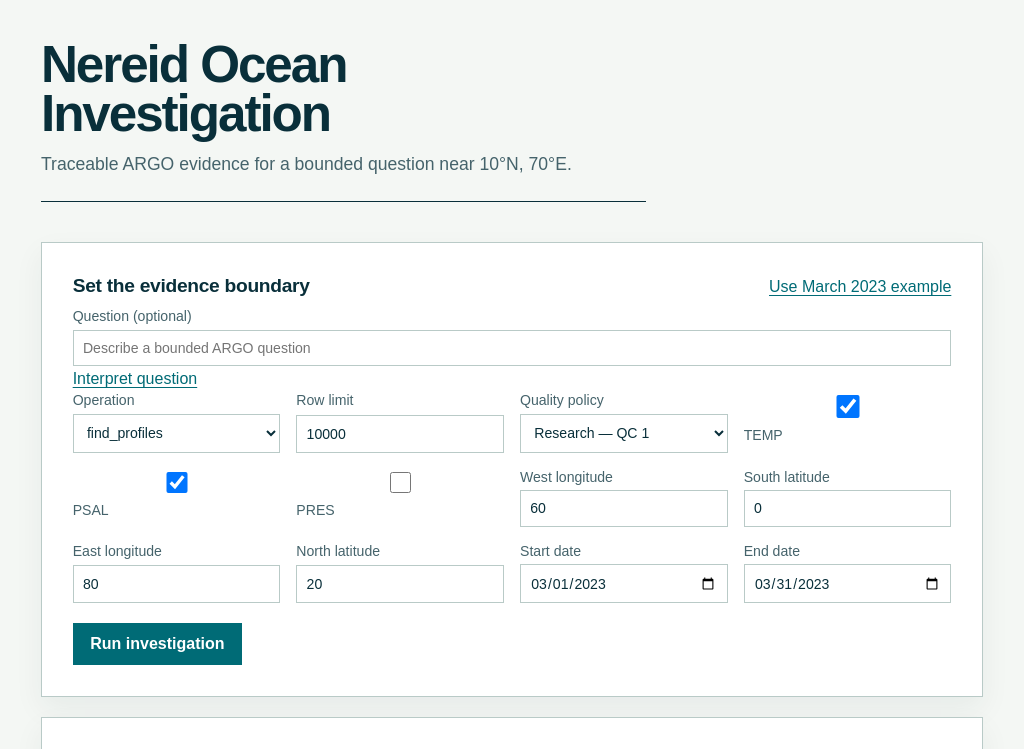
it: a question edit aborts a pending planner and discards its plan and warning
In the field labelled "Question (optional)": point(512, 348) [73, 330, 951, 366], type "Find profiles"
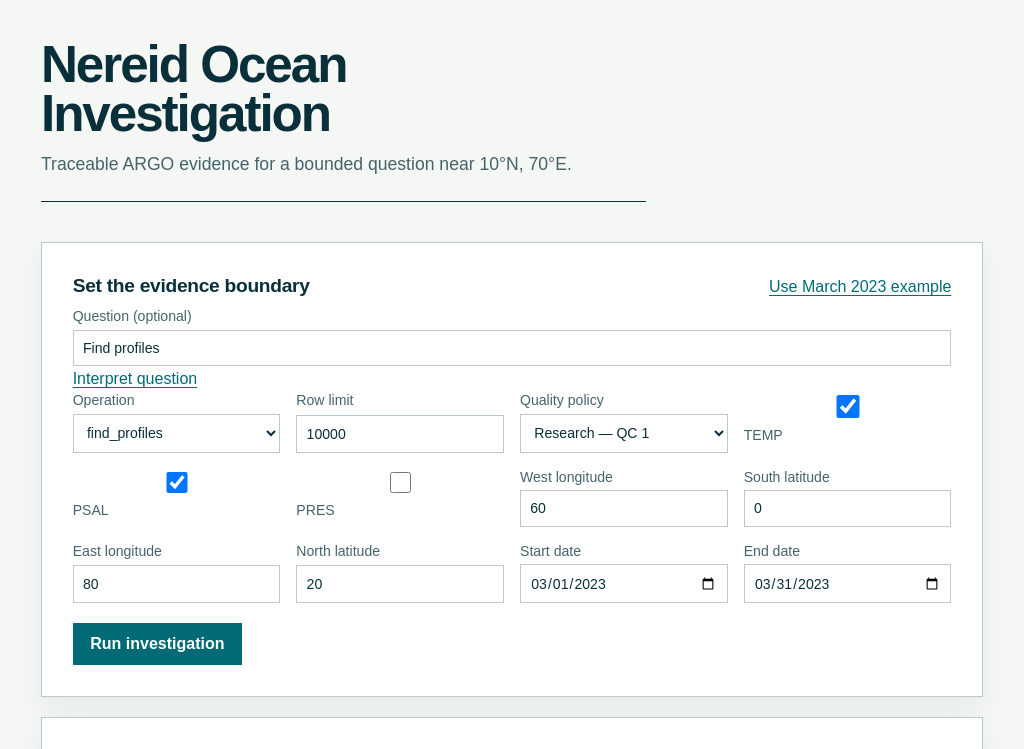
Click the button "Interpret question": point(135, 380) [73, 366, 197, 392]
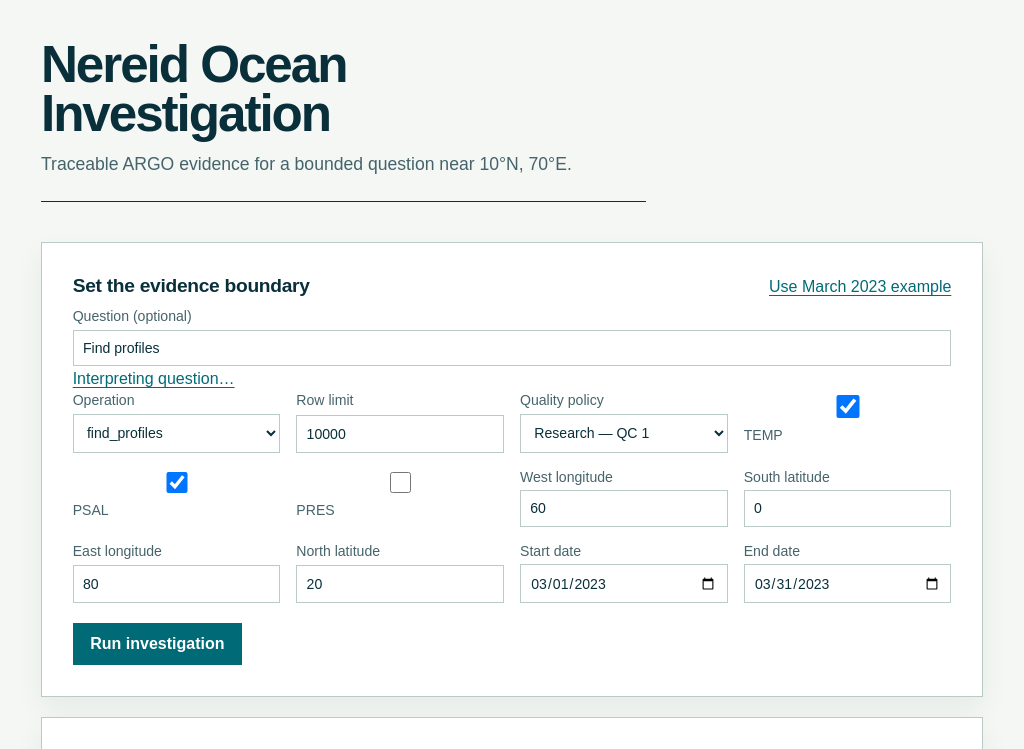
Replace the text in the field labelled "Question (optional)" with "Find other profiles": point(512, 348) [73, 330, 951, 366]
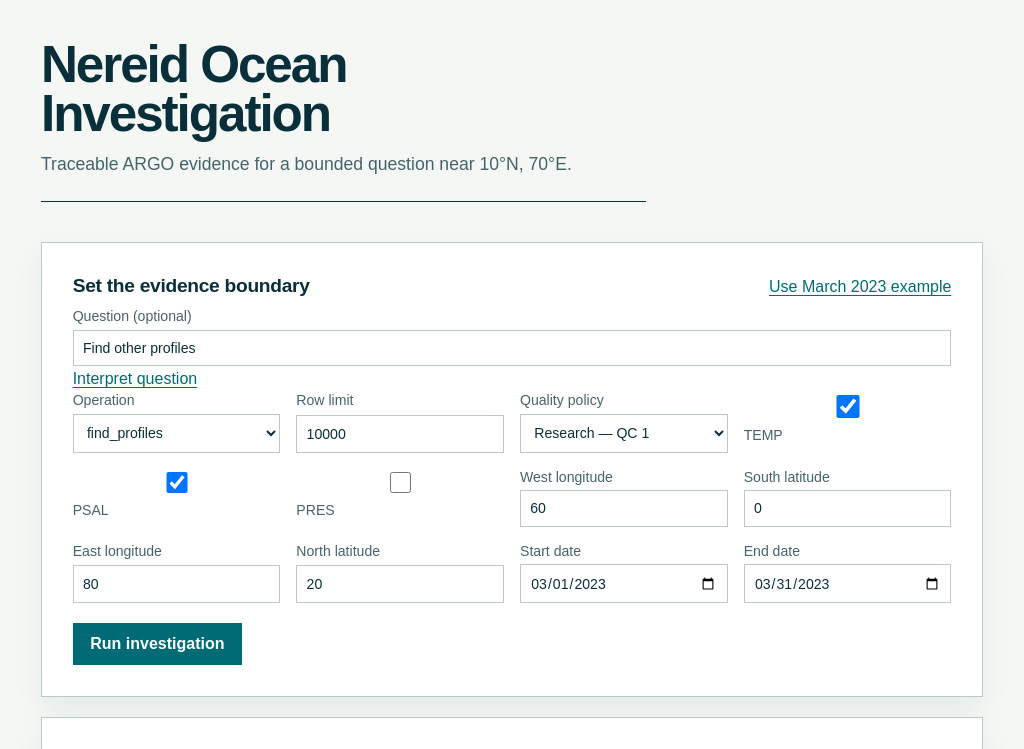
Check: the number field labelled "Row limit" holds "10000", box [296, 415, 504, 452]
Check: the button "Interpret question" is shown, box [73, 366, 197, 392]
